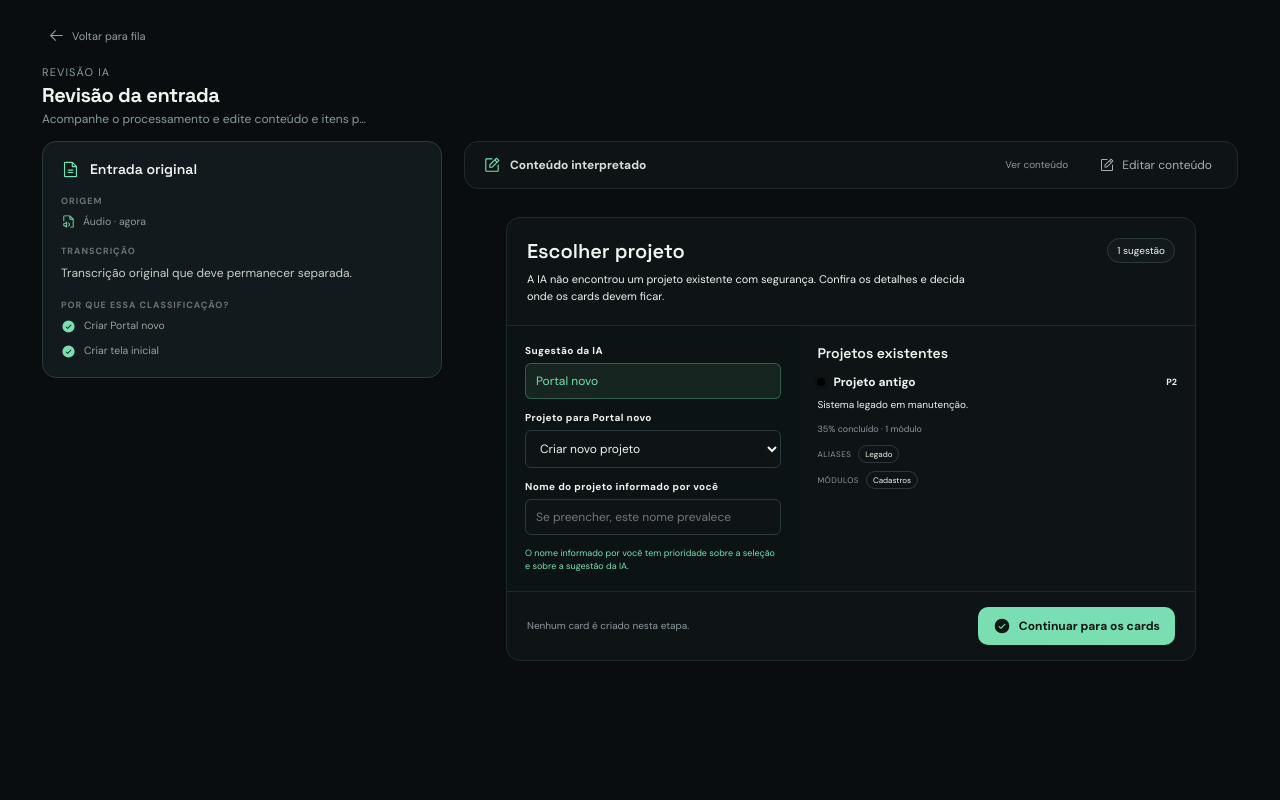
Test: front do harness supervisionado › abre a escolha detalhada de projeto e prioriza o nome informado pelo usuário
Expected: the heading "Escolher projeto" is shown, x1=527 y1=238 x2=685 y2=264
Expected: the field showing "Portal novo" is shown, x1=525 y1=363 x2=781 y2=399
Type "Portal definido por mim" into the field named "Nome do projeto informado por você: Portal novo".
click(653, 517); type("Portal definido por mim")  # box x1=525 y1=499 x2=781 y2=535
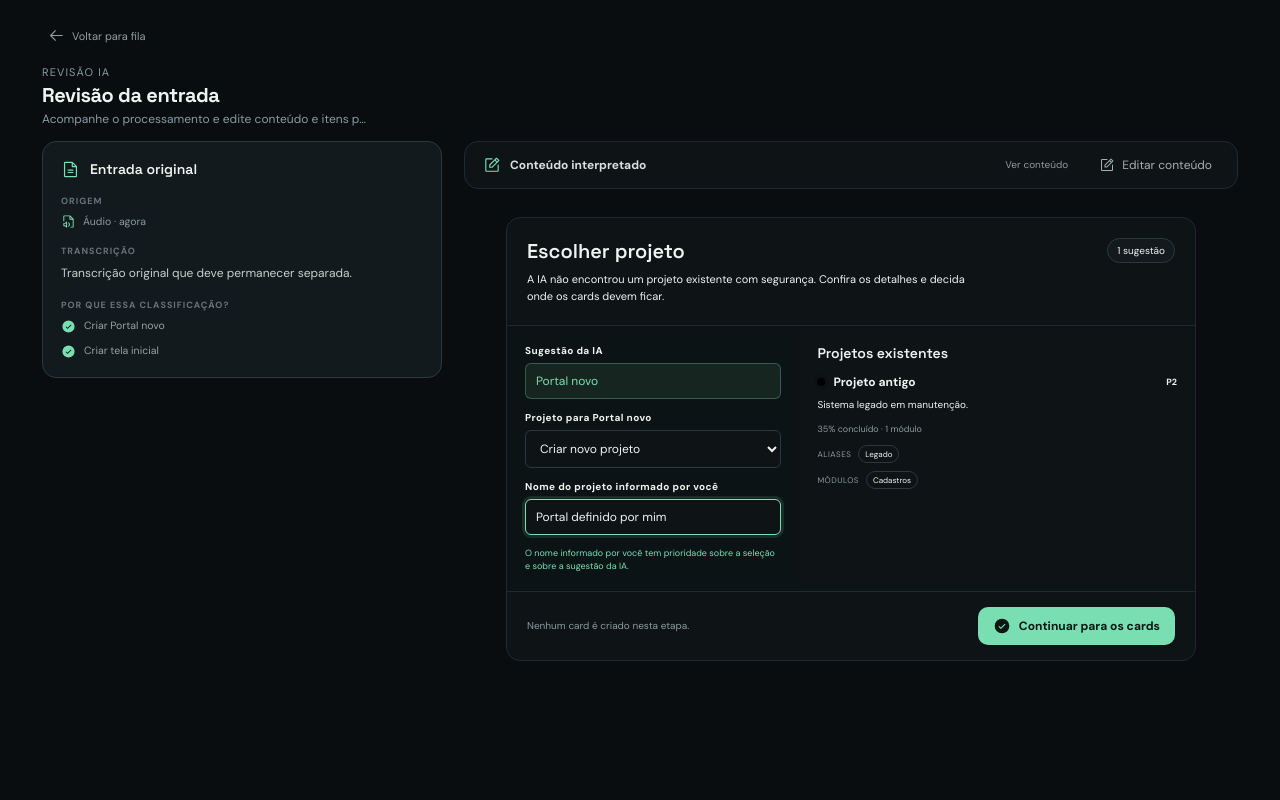
Click the button "Continuar para os cards".
click(1076, 626)  # box x1=978 y1=607 x2=1175 y2=645
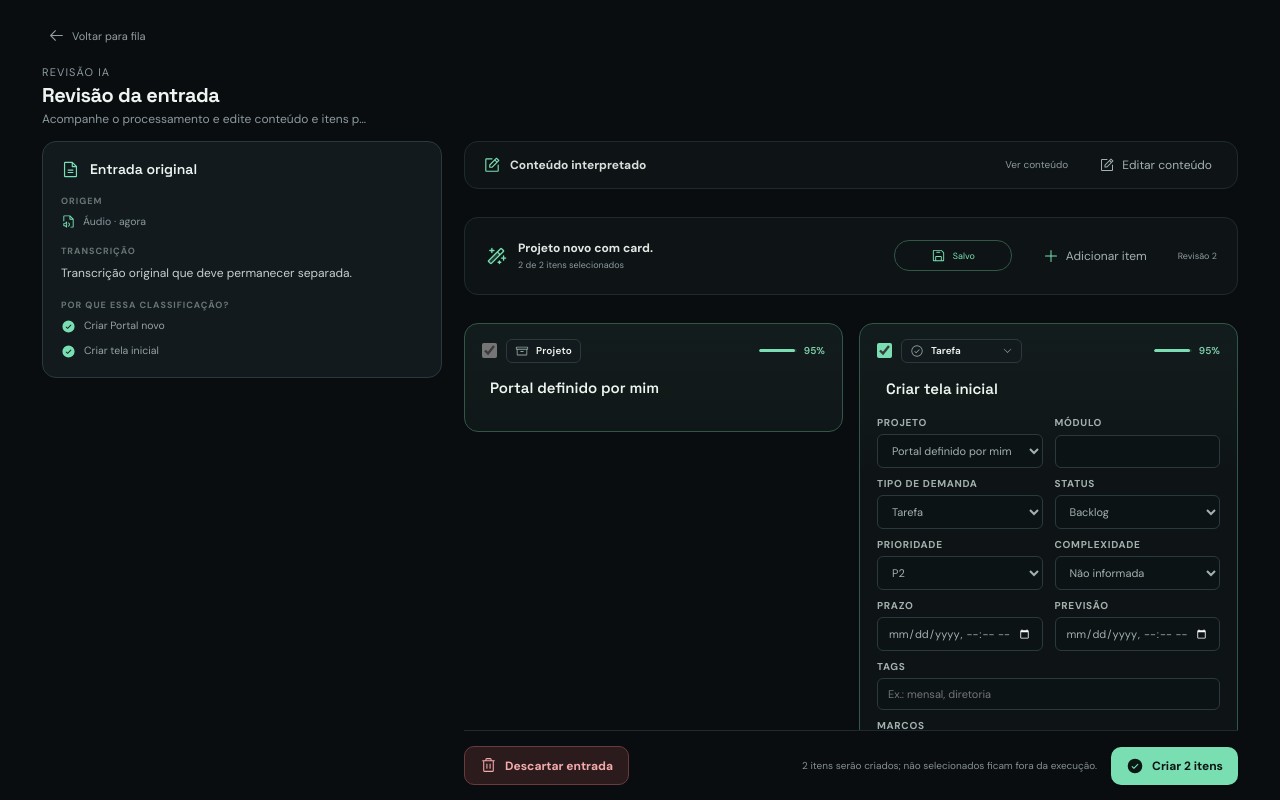
Now the field named "Título de Criar tela inicial" is shown, box x1=877 y1=372 x2=1220 y2=405
